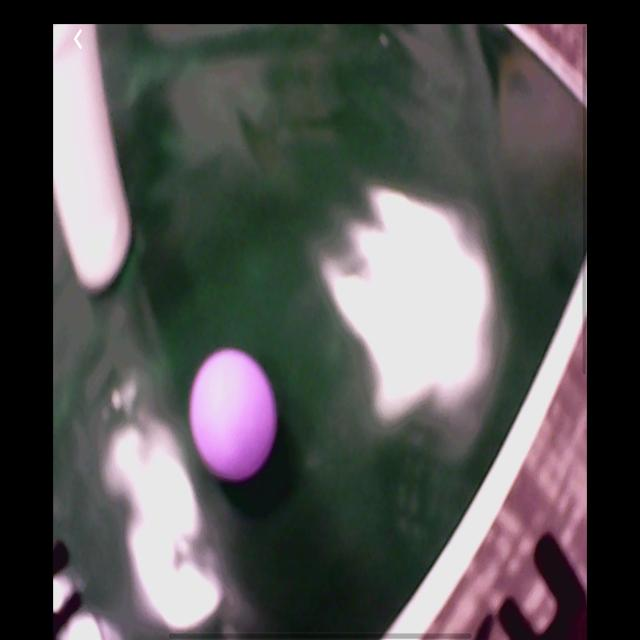ball: (190, 352, 275, 480)
